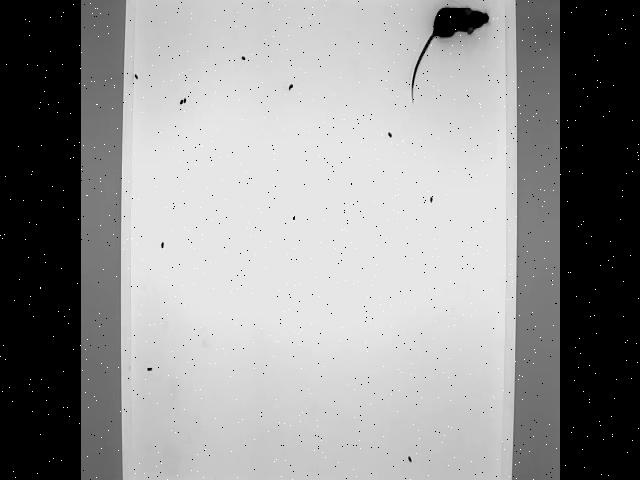Tikus: (403, 4, 495, 103)
